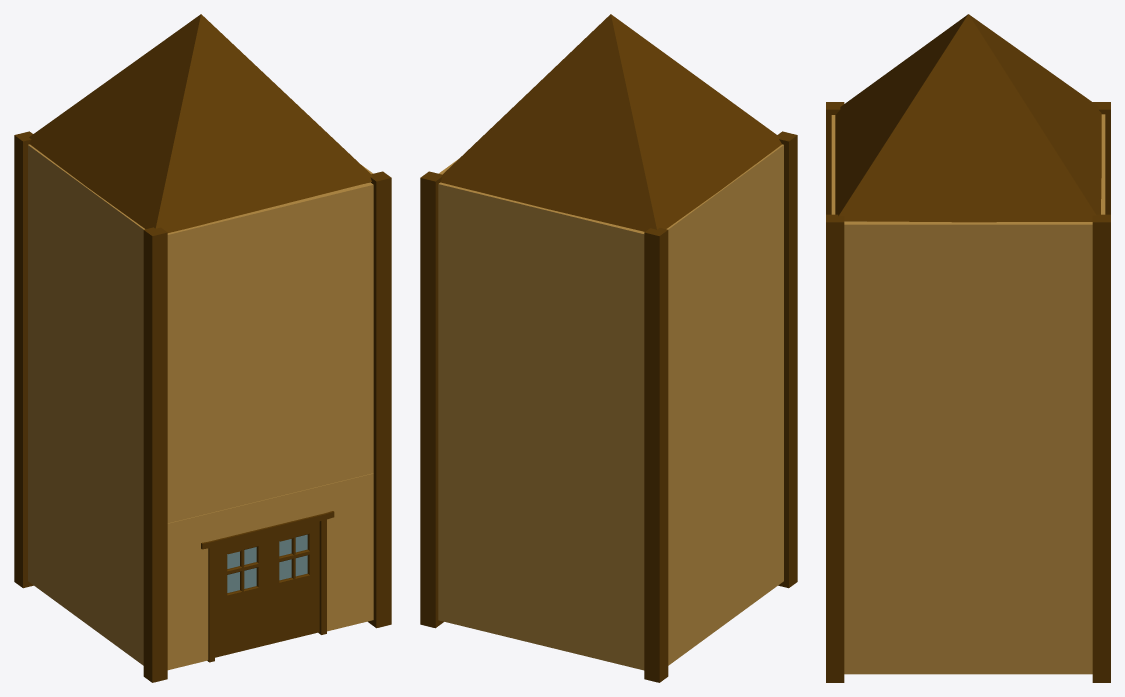
Rendered from Env_ClockTower.fbx.
3 views of the same model, side by side, from view 1: azimuth 30°, elevation 25°; view 2: azimuth 150°, elevation 25°; view 3: azimuth 270°, elevation 25° (orthographic). The views are drawn at different scales.
Parts seen in each view (by area): view 1: ClockTower_Roof_Master_Copy1, pCube967, pCube968, Wall_Doorframe_Master_Copy6, Wood_Pillar_two_Storey13, Wall_Standard_Master_Copy59, Wall_Standard_Master_Copy53, Wall_Standard_Master_Copy44, Wood_Pillar_two_Storey14, Wall_Standard_Master_Copy58, Wall_Standard_Master_Copy52, Wall_Standard_Master_Copy43 (+3 smaller); view 2: ClockTower_Roof_Master_Copy1, Wall_Standard_Master_Copy56, Wall_Standard_Master_Copy46, Wall_Standard_Master_Copy57, Wall_Standard_Master_Copy50, Wall_Standard_Master_Copy47, Wall_Standard_Master_Copy51, Wood_Pillar_two_Storey15, Wall_Standard_Master_Copy58, Wall_Standard_Master_Copy52, Wall_Standard_Master_Copy43, Wood_Pillar_two_Storey16 (+4 smaller); view 3: ClockTower_Roof_Master_Copy1, Wall_Standard_Master_Copy54, Wall_Standard_Master_Copy55, Wall_Standard_Master_Copy49, Wall_Standard_Master_Copy48, Wall_Standard_Master_Copy42, Wall_Standard_Master_Copy45, Wood_Pillar_two_Storey16, Wood_Pillar_two_Storey14, Wood_Pillar_two_Storey13, Wood_Pillar_two_Storey15, pCube968.
Part boxes in pixels (x1,y1,x2,y2): ClockTower_Roof_Master_Copy1: (29, 14, 373, 232); pCube967: (167, 327, 373, 523); pCube968: (167, 182, 373, 376); Wall_Doorframe_Master_Copy6: (167, 473, 373, 670); Wood_Pillar_two_Storey13: (143, 227, 167, 682); Wall_Standard_Master_Copy59: (28, 144, 88, 333); Wall_Standard_Master_Copy53: (28, 292, 88, 480); Wall_Standard_Master_Copy44: (28, 435, 88, 624); Wood_Pillar_two_Storey14: (368, 171, 391, 628); Wall_Standard_Master_Copy58: (88, 189, 144, 374); Wall_Standard_Master_Copy52: (88, 334, 143, 519); Wall_Standard_Master_Copy43: (88, 481, 143, 665); ClockTower_Roof_Master_Copy1: (440, 14, 781, 231); Wall_Standard_Master_Copy56: (438, 182, 543, 355); Wall_Standard_Master_Copy46: (438, 474, 542, 645); Wall_Standard_Master_Copy57: (542, 208, 644, 380); Wall_Standard_Master_Copy50: (438, 329, 542, 500); Wall_Standard_Master_Copy47: (542, 499, 644, 670); Wall_Standard_Master_Copy51: (542, 355, 644, 524); Wood_Pillar_two_Storey15: (644, 228, 668, 682); Wall_Standard_Master_Copy58: (723, 144, 783, 333); Wall_Standard_Master_Copy52: (723, 292, 783, 480); Wall_Standard_Master_Copy43: (723, 435, 783, 624); Wood_Pillar_two_Storey16: (420, 171, 443, 628); ClockTower_Roof_Master_Copy1: (835, 14, 1101, 222); Wall_Standard_Master_Copy54: (844, 221, 968, 375); Wall_Standard_Master_Copy55: (968, 222, 1092, 375); Wall_Standard_Master_Copy49: (968, 374, 1092, 525); Wall_Standard_Master_Copy48: (844, 374, 968, 525); Wall_Standard_Master_Copy42: (844, 523, 968, 674); Wall_Standard_Master_Copy45: (968, 523, 1092, 674); Wood_Pillar_two_Storey16: (1092, 214, 1110, 682); Wood_Pillar_two_Storey14: (826, 214, 844, 682); Wood_Pillar_two_Storey13: (826, 102, 844, 214); Wood_Pillar_two_Storey15: (1093, 102, 1110, 214); pCube968: (831, 115, 835, 214).
Bounding box in the file's own units: 427 × 1006 × 427.
